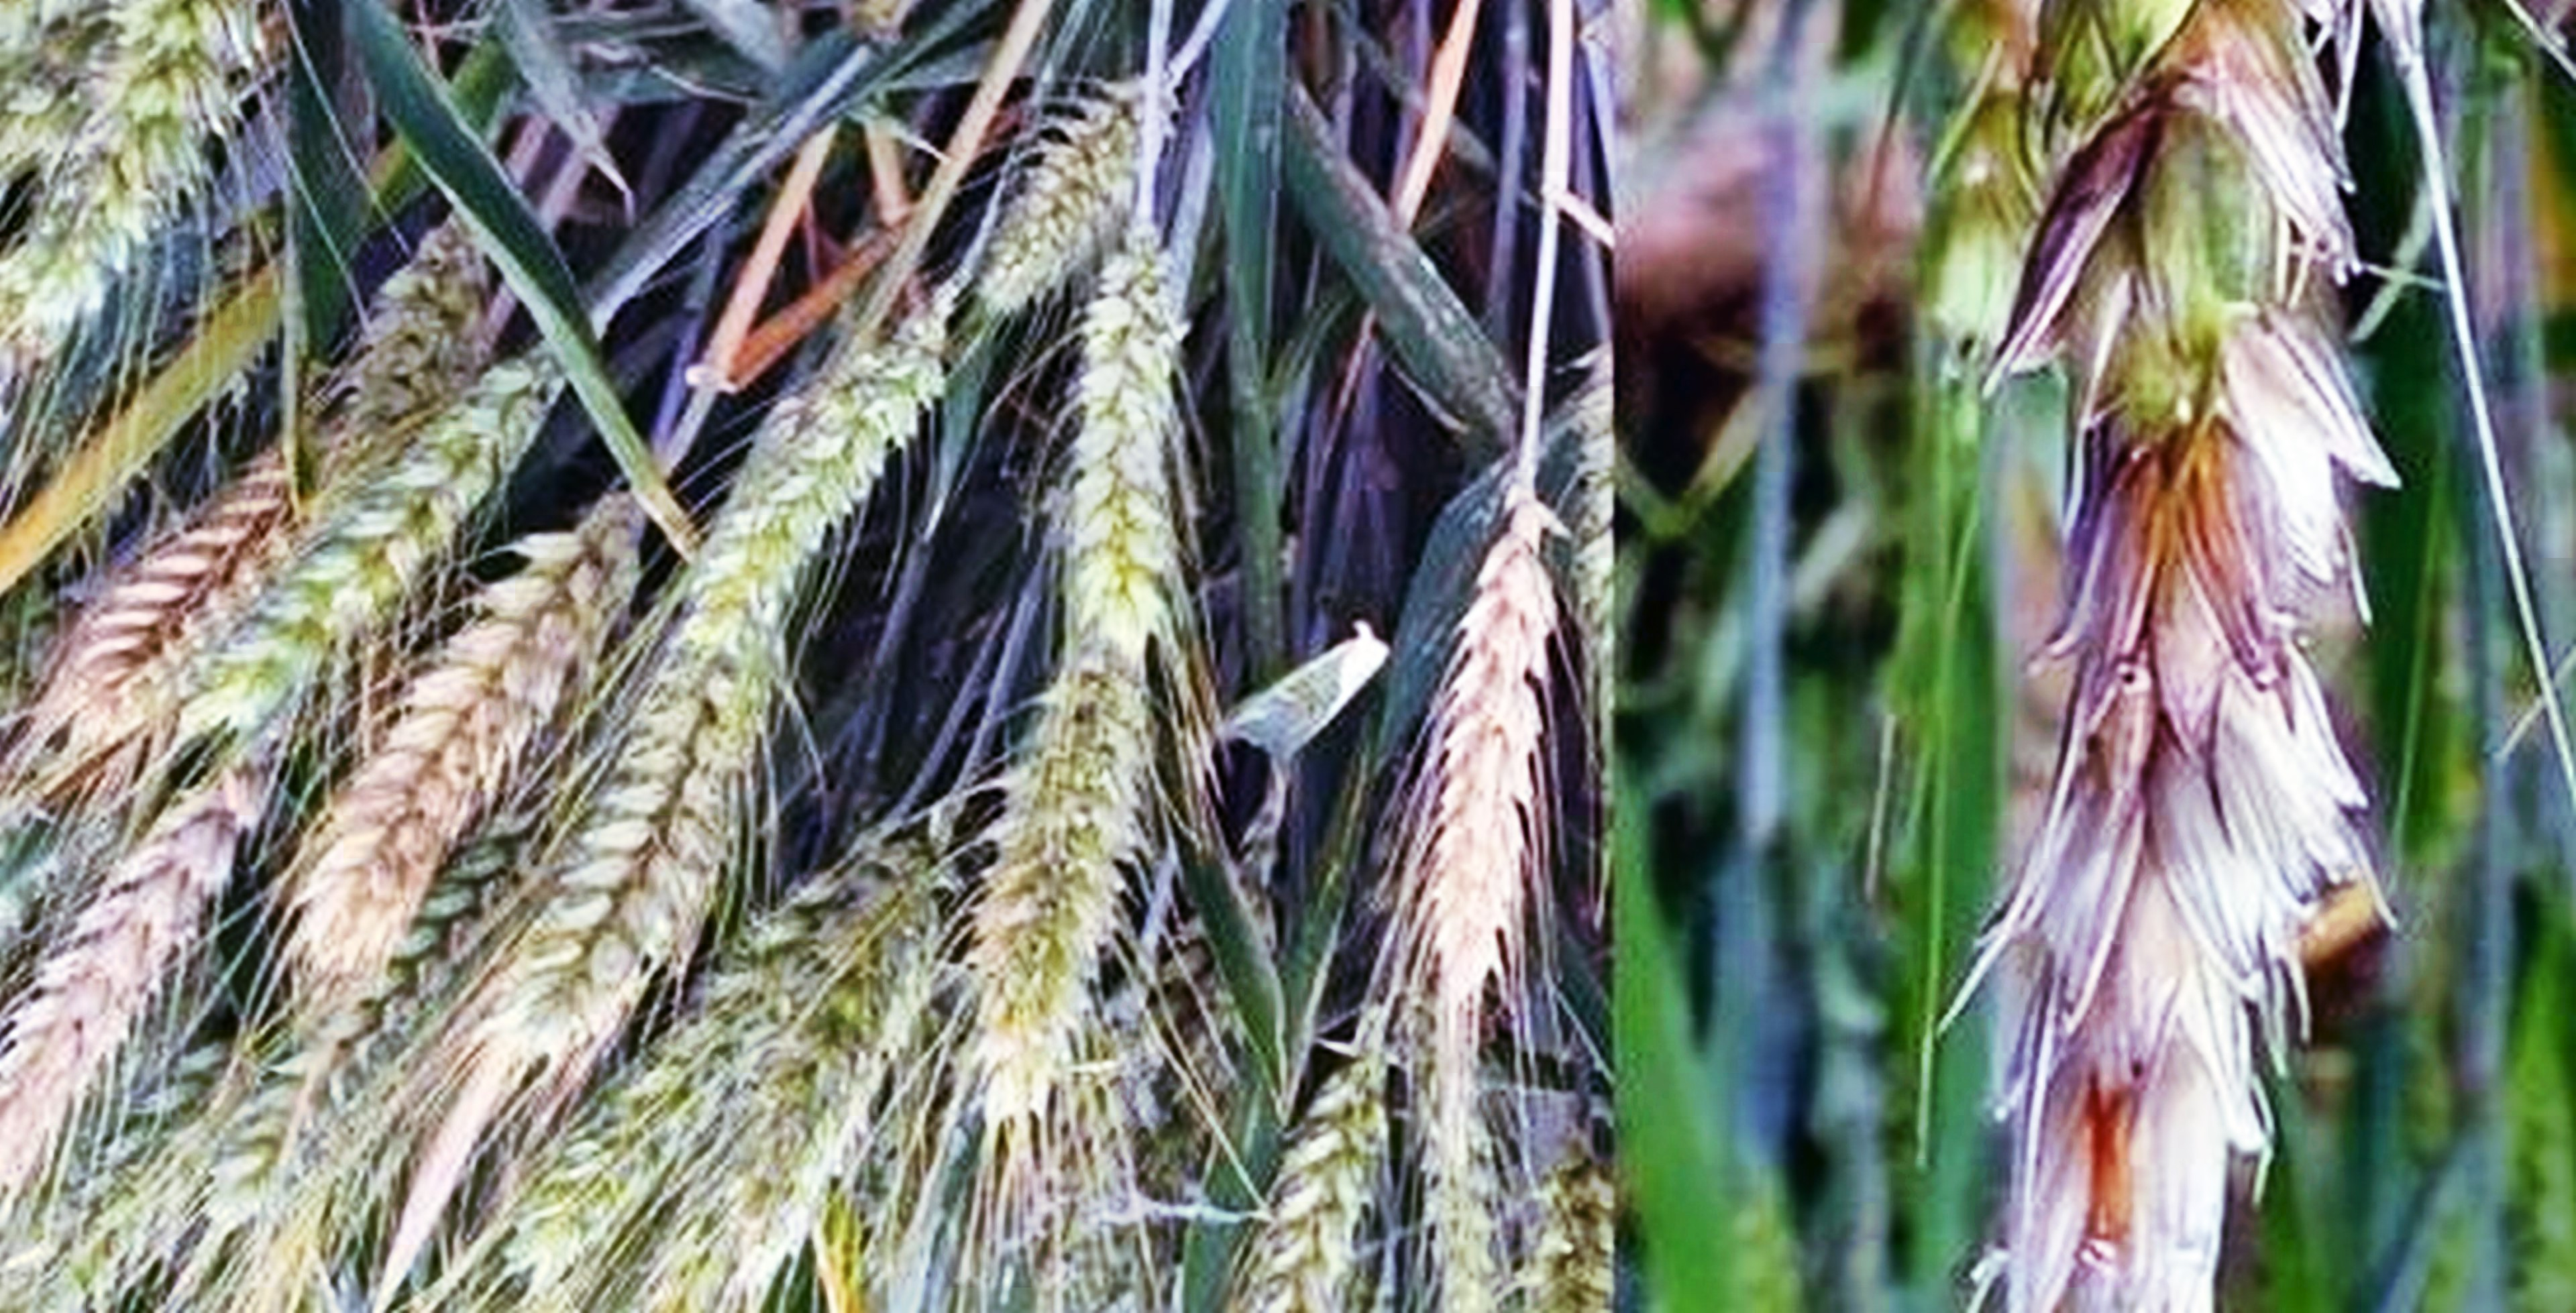Wheat scab: (1953, 27, 2380, 1209), (1368, 514, 1556, 1042)
